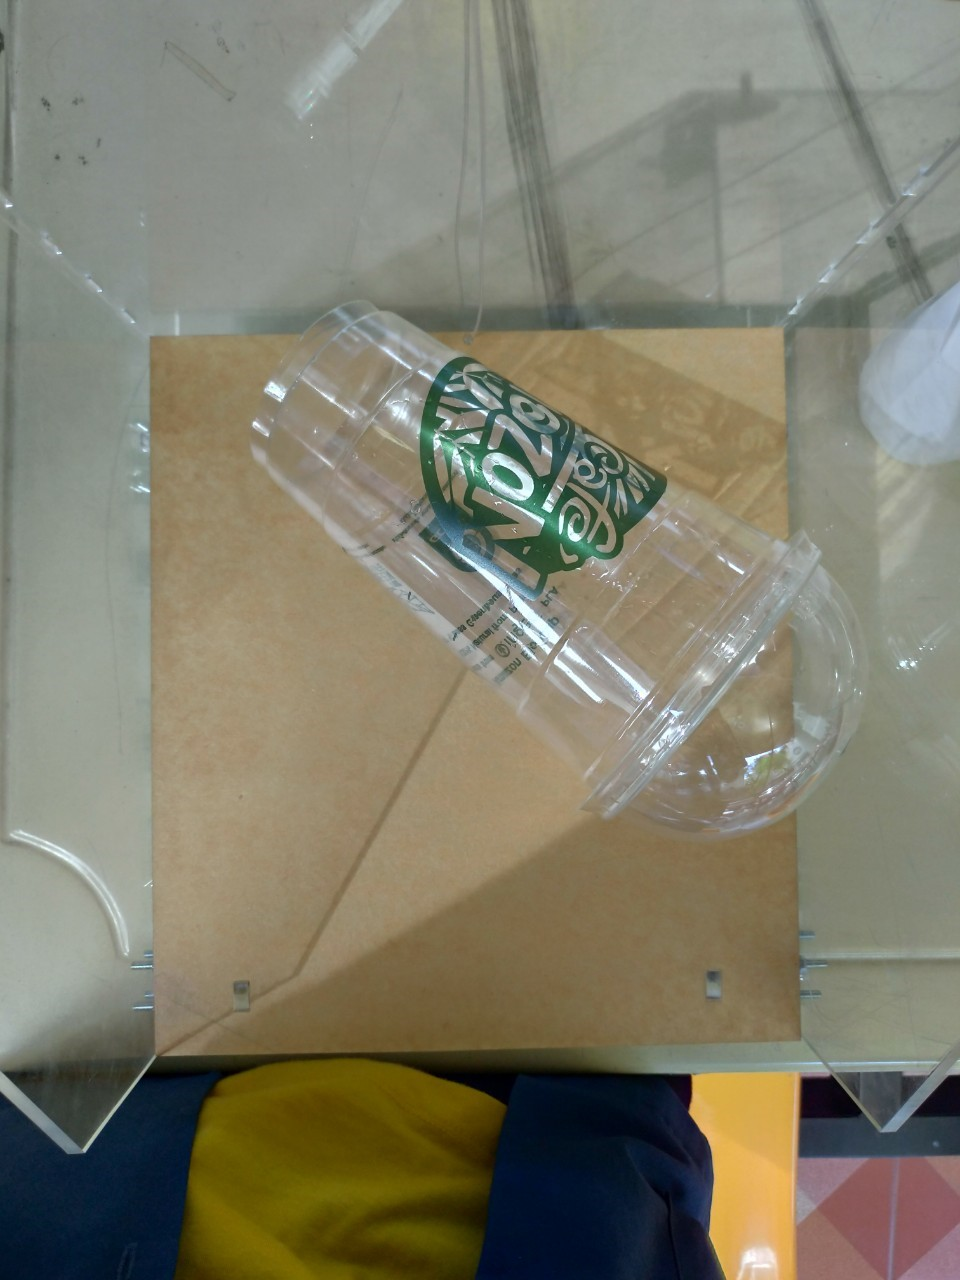PlasticCup: (247, 300, 871, 841)
